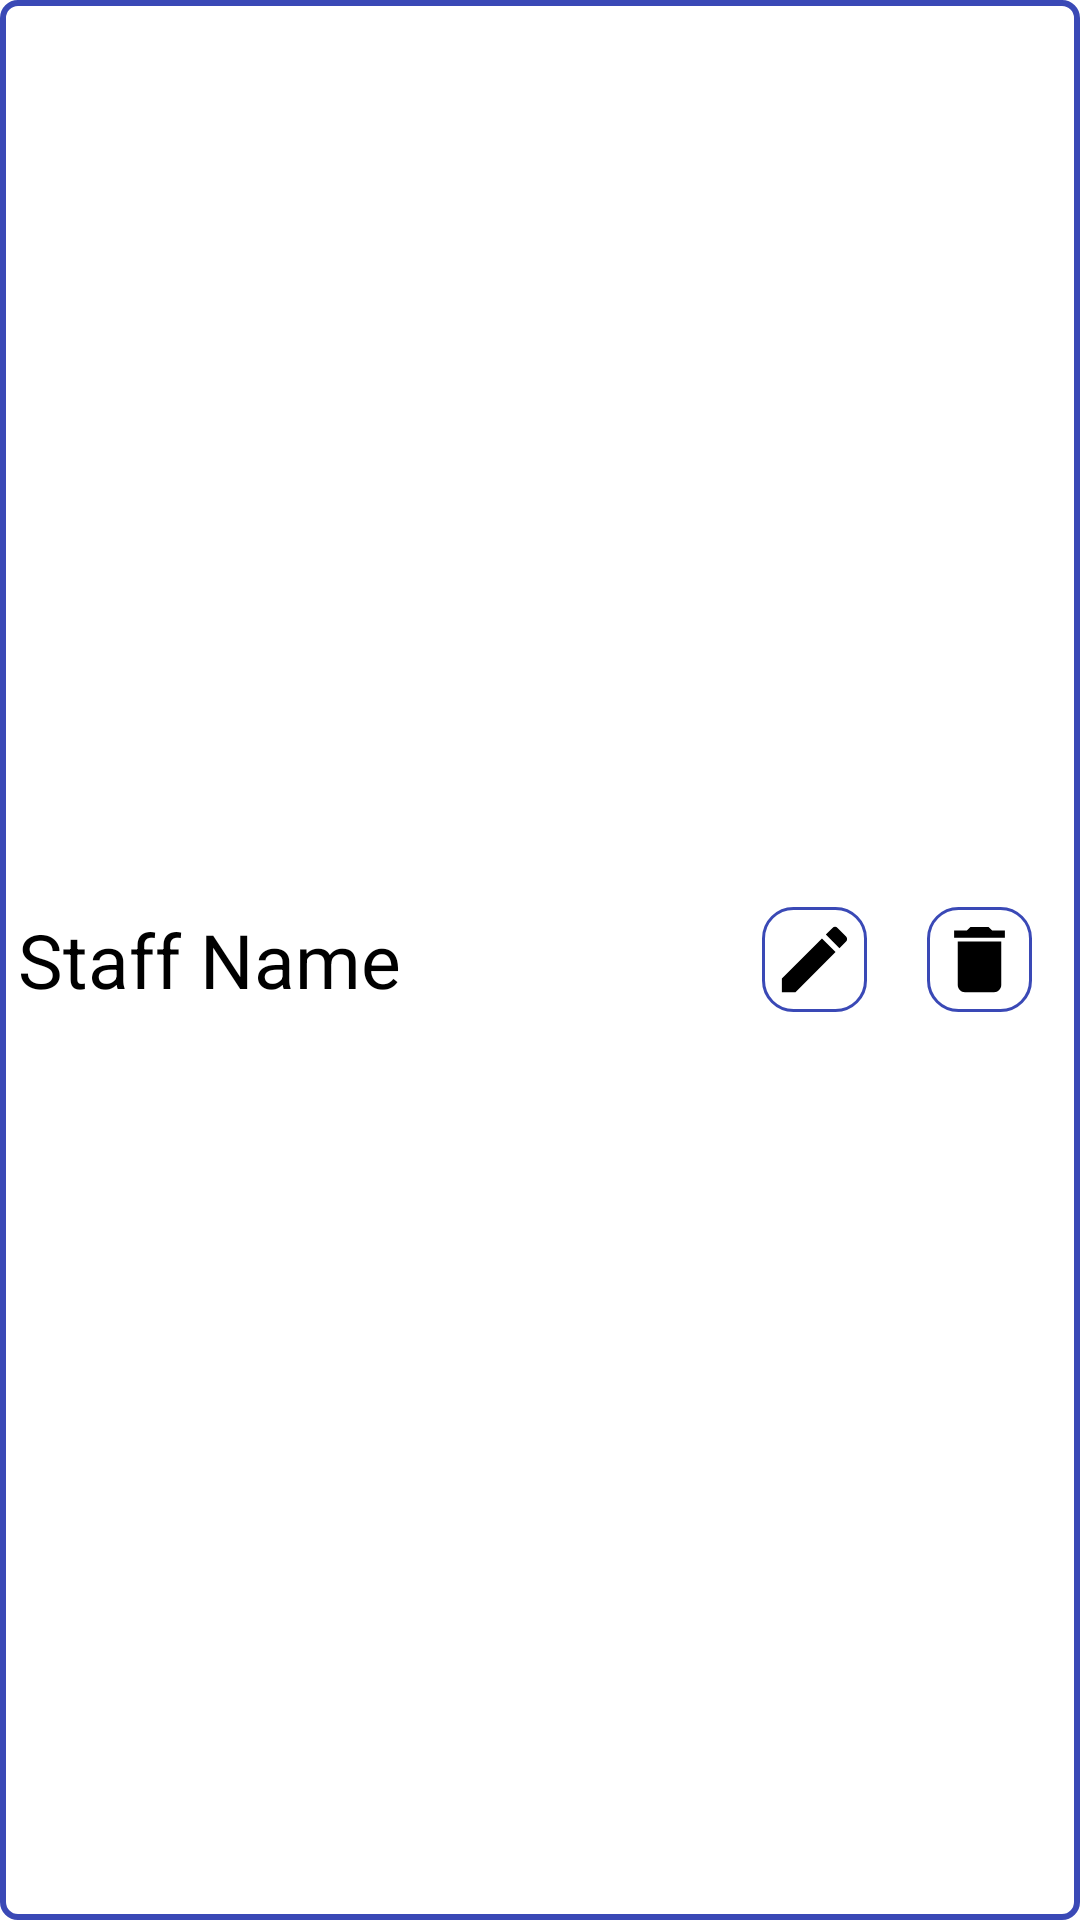

Screen size 1080px×1920px. Icon name, then its center in pixels as (x=x, y=y):
delete: (x=979, y=959)
update: (x=814, y=959)
